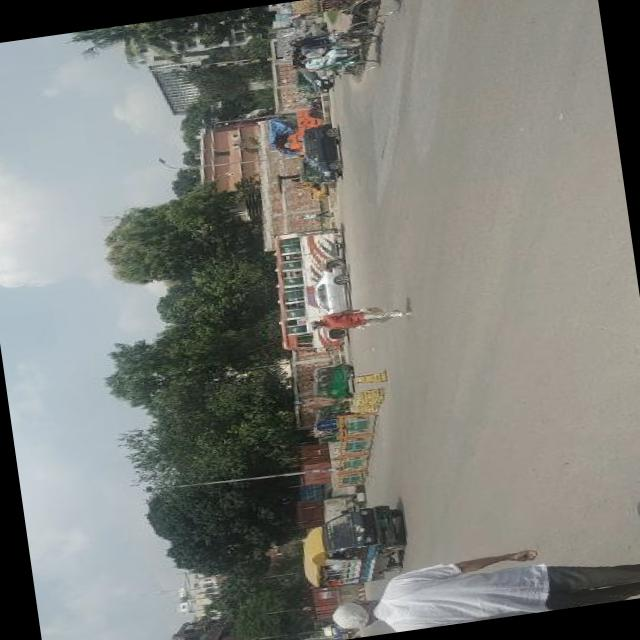bus: (292, 497, 416, 591), (278, 316, 355, 358)
car: (300, 122, 344, 185), (310, 266, 354, 314), (305, 70, 333, 94)
motorcycle: (290, 17, 390, 68), (282, 0, 403, 27), (307, 361, 355, 402), (310, 412, 342, 431), (310, 423, 342, 442), (312, 401, 351, 416), (298, 162, 320, 185), (330, 627, 361, 640), (294, 76, 314, 96), (288, 14, 316, 28), (303, 95, 320, 108)
